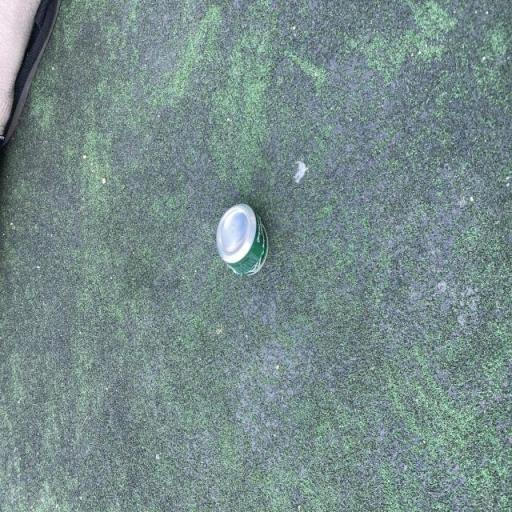metal: (186, 185, 268, 292)
